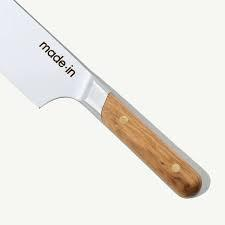Knife: (0, 0, 209, 198)
